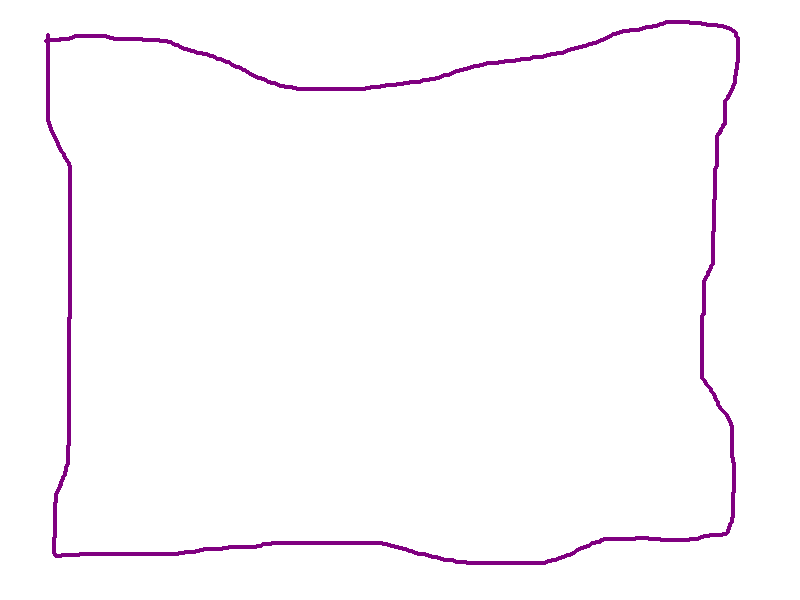rect: (42, 15, 743, 570)
